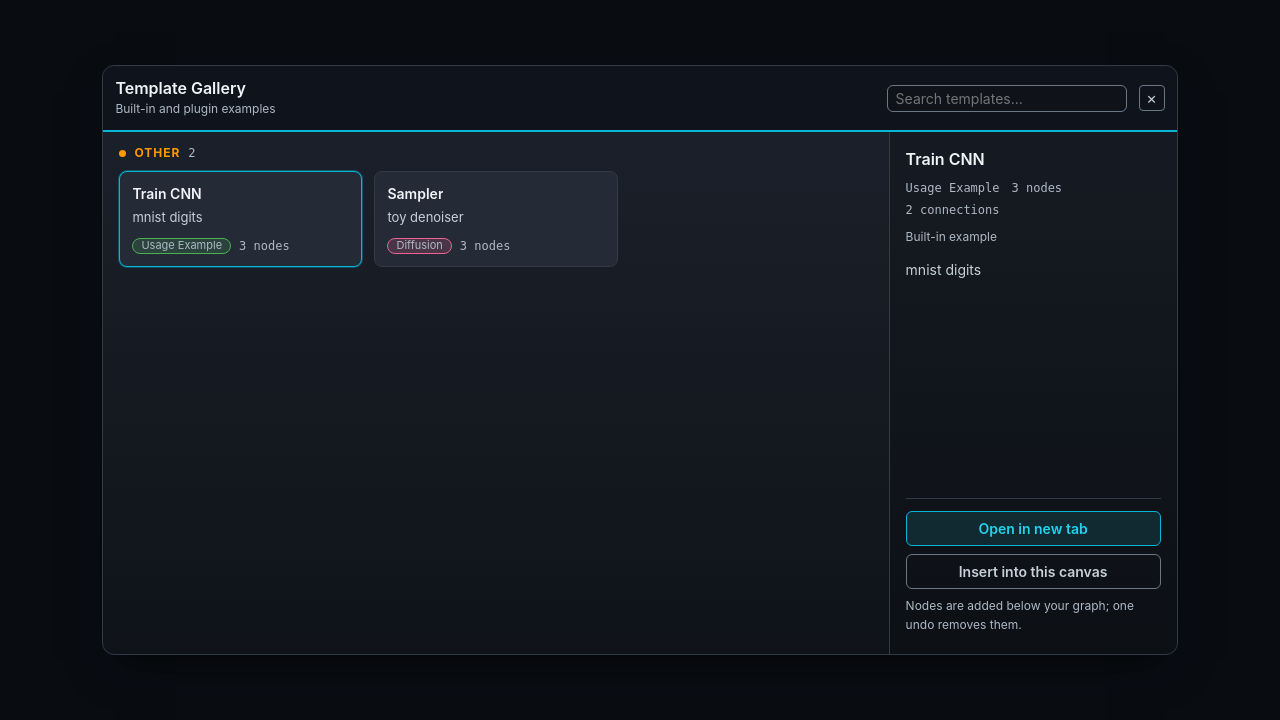
Test case: TemplateGalleryModal › filters by name, description, category and source pack
Expected: the text "Train CNN" below "Other" is shown, [132,185,202,202]
Type "denoiser" into the search field with placeholder "Search templates..." at (1007, 98), box [887,85,1127,112]
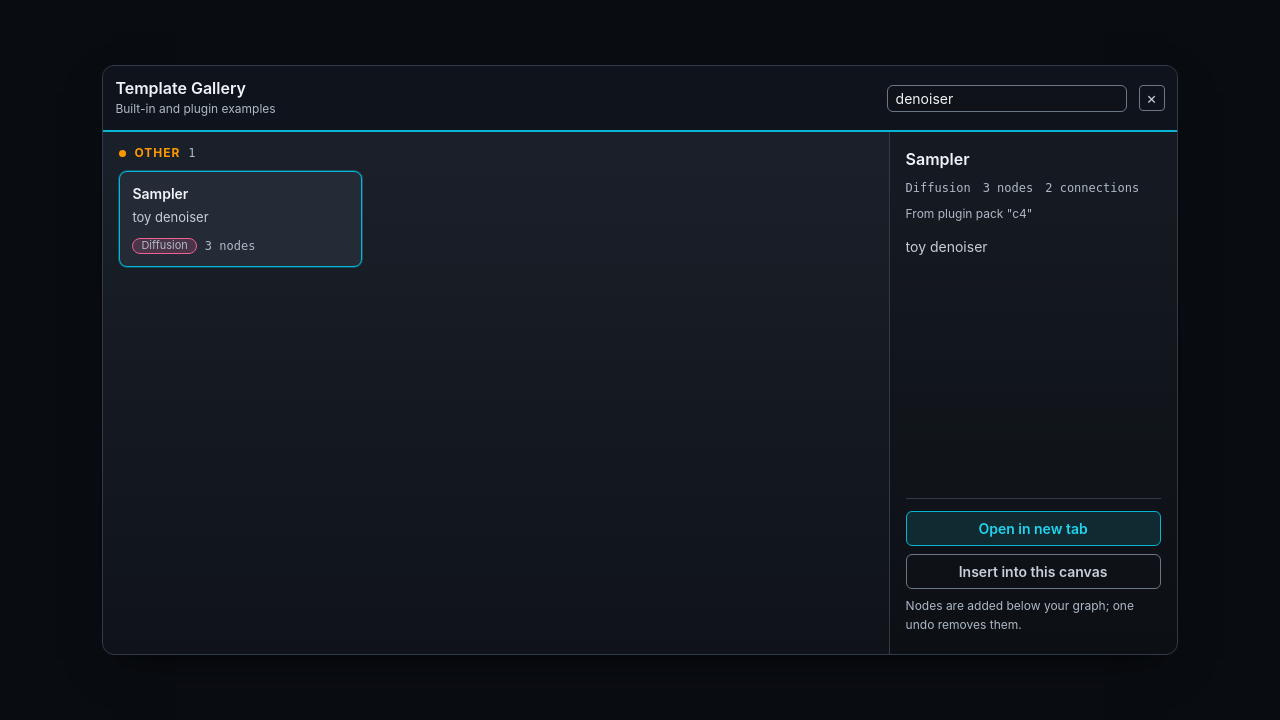
Expected: the text "Sampler" below "Other" is shown, [132,185,188,202]
Expected: the button "Train CNN" is gone
Replace the text in the search field with placeholder "Search templates..." with "c4" at (1007, 98), box [887,85,1127,112]
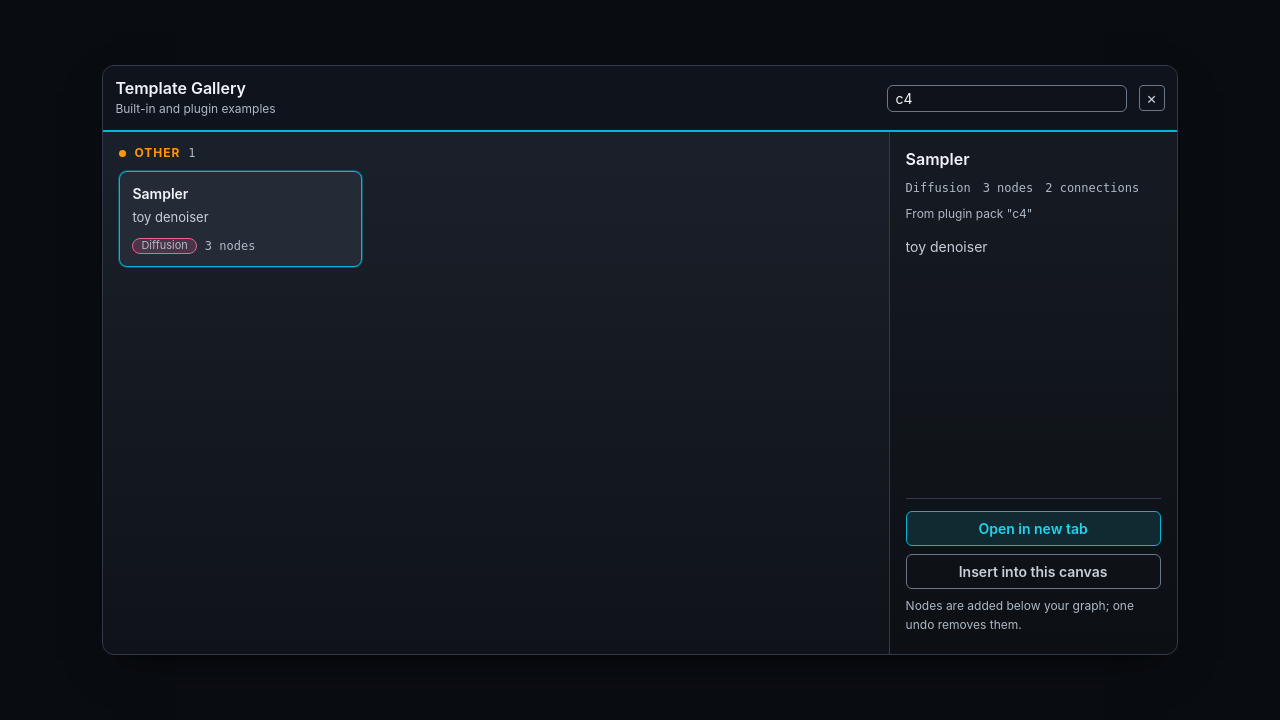
Expected: the text "Sampler" below "Other" is shown, [132,185,188,202]
Replace the text in the search field with placeholder "Search templates..." with "zzzz" at (1007, 98), box [887,85,1127,112]
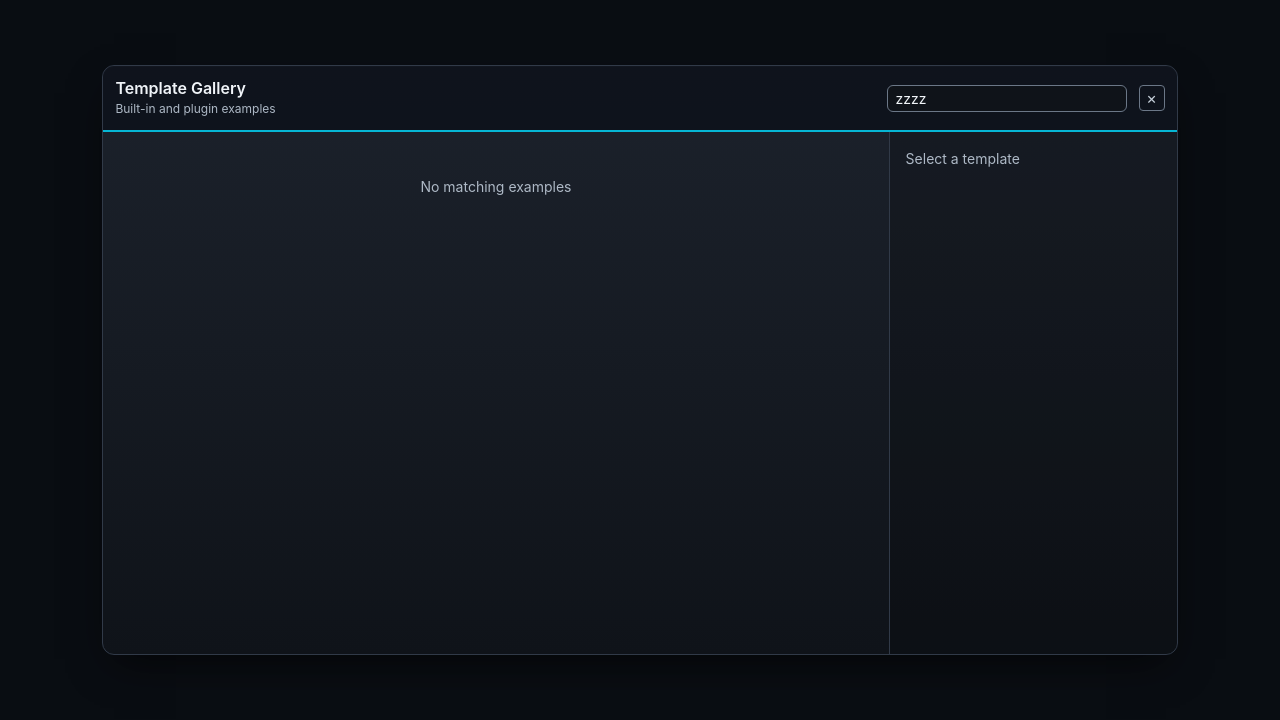
Expected: the text "No matching examples" is shown, [420,178,572,195]
